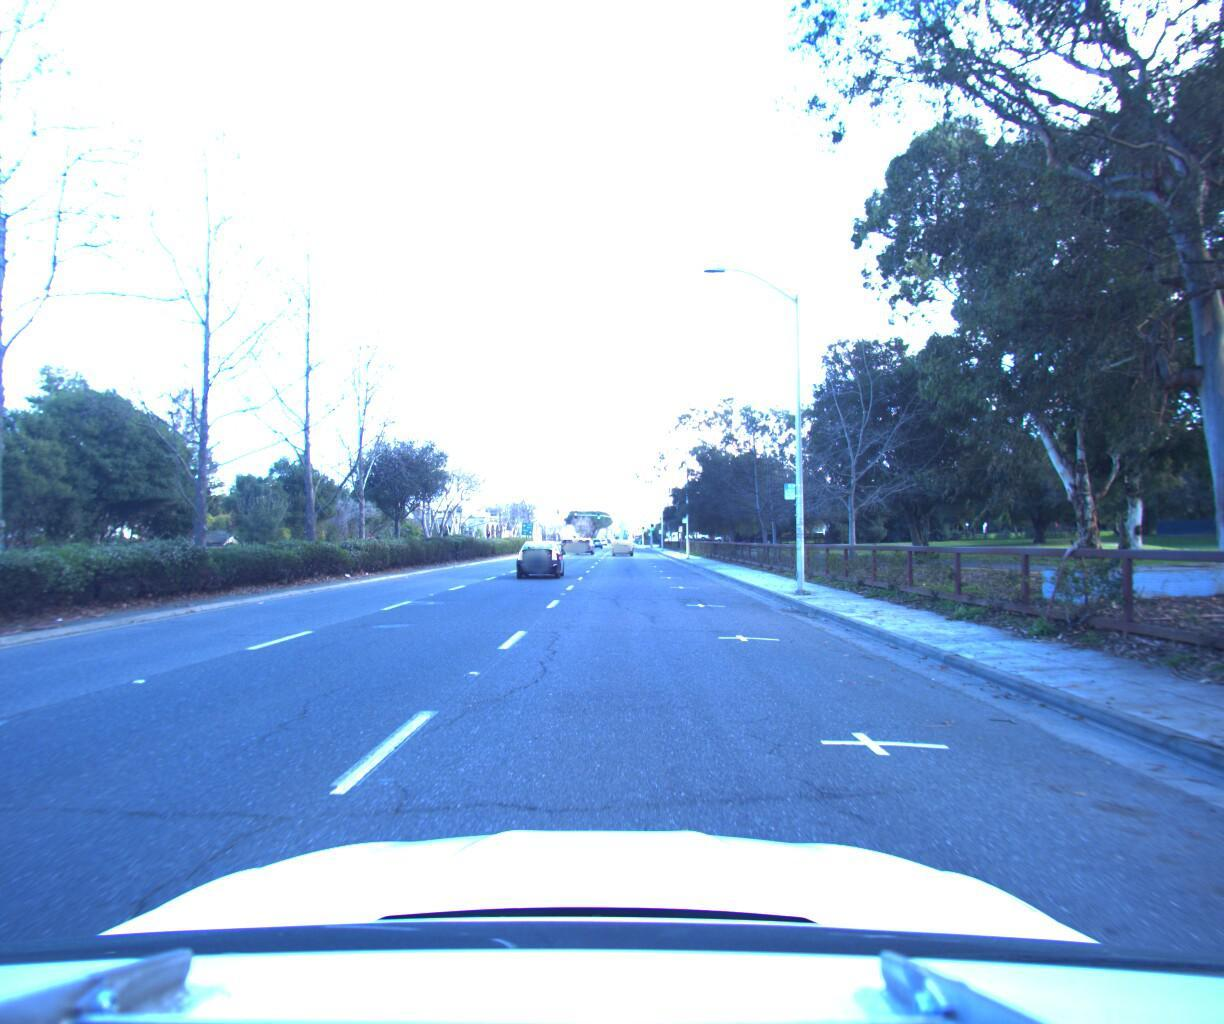car: (517, 531, 568, 573), (612, 531, 633, 548), (575, 529, 596, 546)
